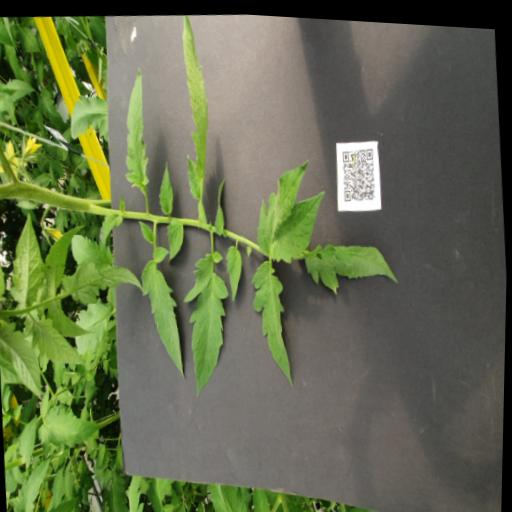Healthy: (178, 246, 237, 397), (174, 11, 216, 200), (138, 240, 188, 380), (248, 253, 298, 385), (300, 232, 400, 296), (251, 153, 314, 254), (36, 382, 108, 461), (267, 183, 330, 262), (117, 67, 155, 191), (59, 256, 145, 309), (2, 207, 45, 307), (30, 313, 90, 371), (15, 453, 58, 512), (73, 299, 114, 357), (67, 90, 109, 141), (71, 231, 116, 270), (35, 83, 67, 137), (207, 476, 251, 512), (16, 412, 43, 470), (224, 241, 245, 301), (97, 209, 126, 252), (211, 174, 230, 236), (155, 159, 176, 215), (149, 473, 177, 512), (165, 215, 186, 265), (3, 76, 39, 104), (124, 471, 148, 512), (35, 492, 82, 512), (17, 24, 42, 56), (252, 483, 273, 512), (137, 216, 156, 244), (0, 16, 15, 49)
